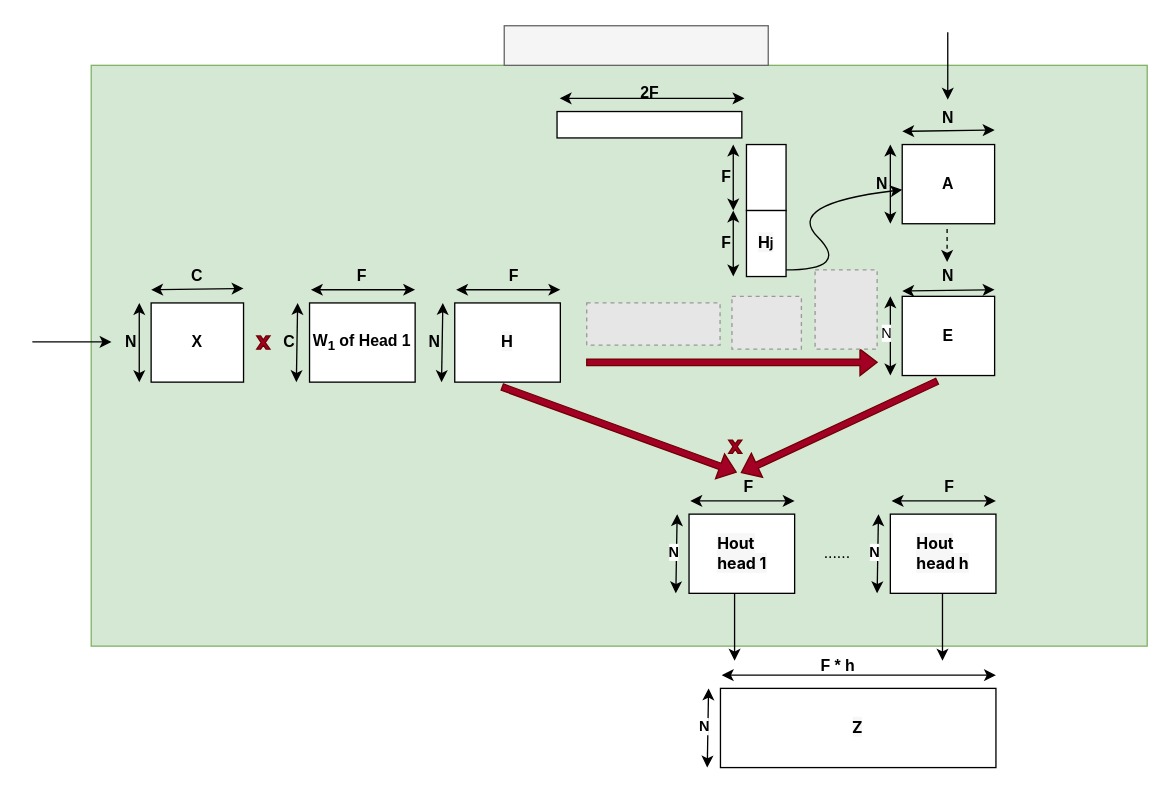
The diagram is 1171 pixels wide and 803 high, and some of its shapes have lost their labels. Grey dashed boxes stand in for pictures. The centre of each missing label's shape, as x and y in pixels:
a T of Head 1: the point at 649,124
GAT Layer: the point at 635,44
H i: the point at 765,177
